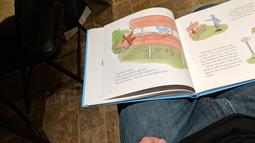text block: (196, 41, 245, 79), (111, 64, 172, 83), (226, 2, 255, 23)
